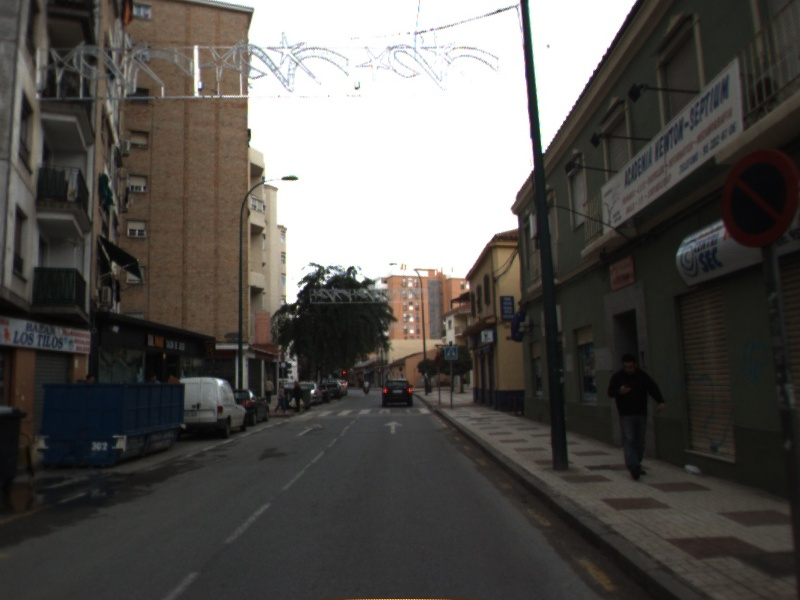STRAIGHT: (294, 421, 325, 439), (382, 419, 406, 435)
